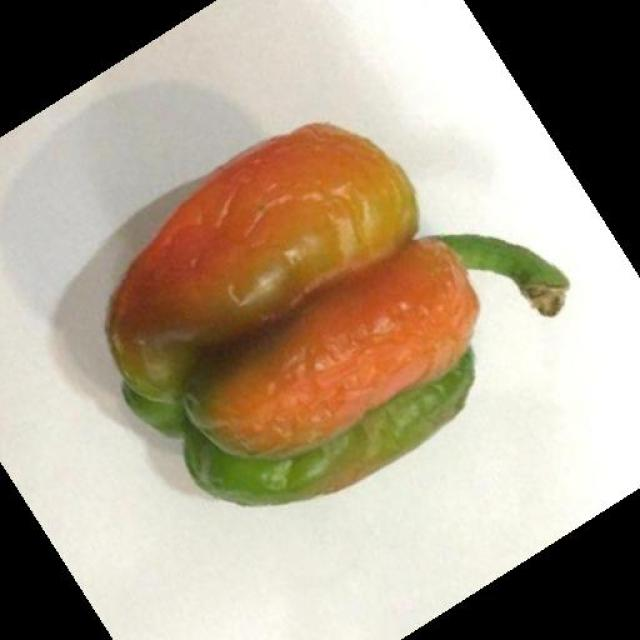Stale_Capsicum: (80, 92, 558, 488)
